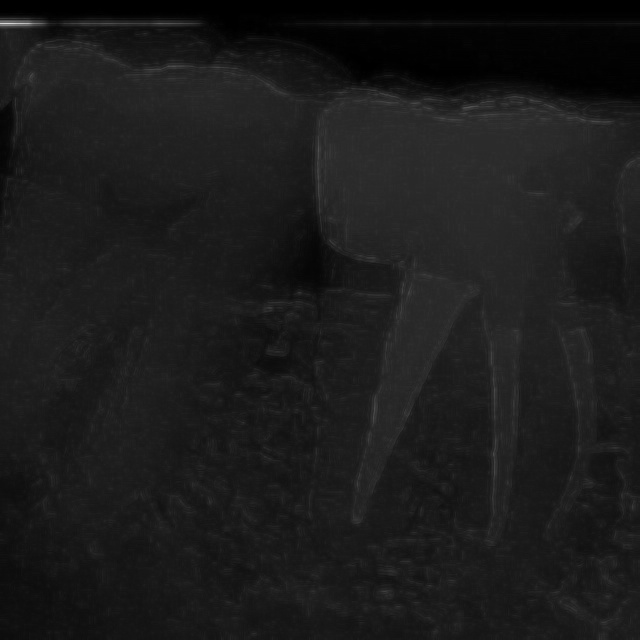Class 0- No endodontic treatment: (292, 186, 626, 596)
cavity: (2, 150, 277, 570)
